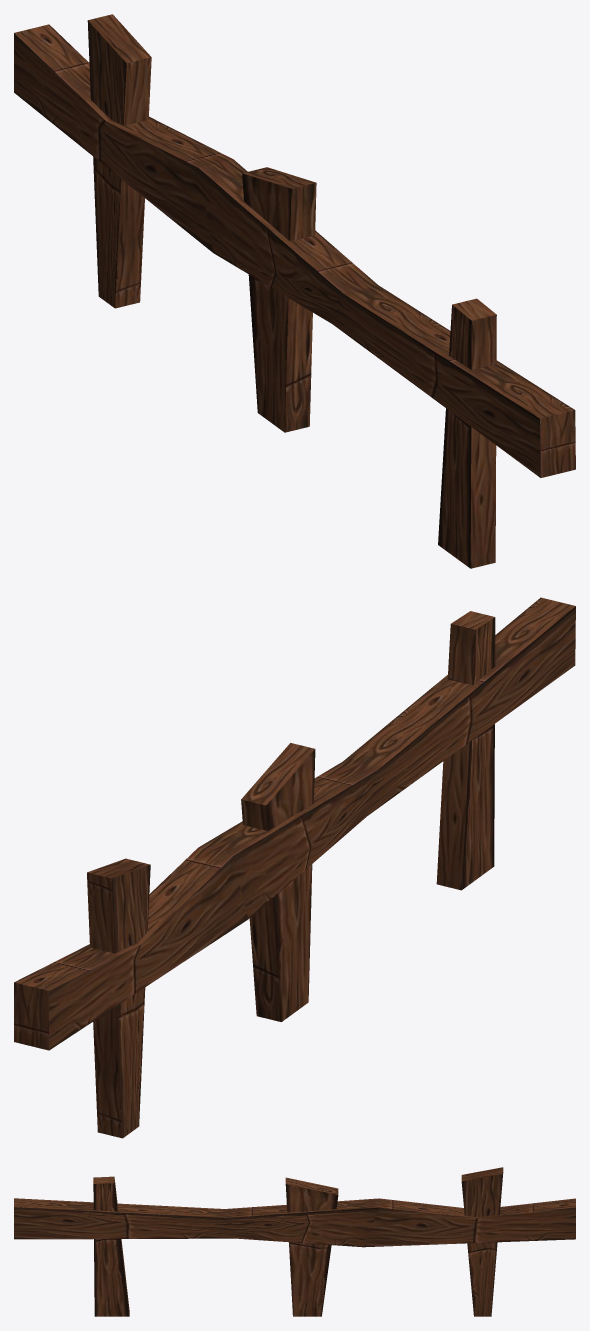
File: Fence.obj
3 views of the same model, one above another, from view 1: azimuth 30°, elevation 25°; view 2: azimuth 150°, elevation 25°; view 3: azimuth 270°, elevation 25° (orthographic). The views are drawn at different scales.
Parts seen in each view (by area): view 1: Cube.001_Cube.002, Cube_Cube.001, Cube.002_Cube.003, Cube.003_Cube.004; view 2: Cube.001_Cube.002, Cube_Cube.001, Cube.002_Cube.003, Cube.003_Cube.004; view 3: Cube.001_Cube.002, Cube_Cube.001, Cube.002_Cube.003, Cube.003_Cube.004.
Part boxes in pixels (left/top/right/bottom): Cube.001_Cube.002: left=14, top=24, right=575, bottom=477; Cube_Cube.001: left=242, top=167, right=316, bottom=432; Cube.002_Cube.003: left=87, top=14, right=151, bottom=308; Cube.003_Cube.004: left=438, top=298, right=496, bottom=568; Cube.001_Cube.002: left=14, top=597, right=575, bottom=1050; Cube_Cube.001: left=241, top=743, right=315, bottom=1021; Cube.002_Cube.003: left=87, top=858, right=150, bottom=1138; Cube.003_Cube.004: left=436, top=611, right=495, bottom=890; Cube.001_Cube.002: left=14, top=1198, right=575, bottom=1247; Cube_Cube.001: left=285, top=1177, right=338, bottom=1316; Cube.002_Cube.003: left=461, top=1167, right=503, bottom=1316; Cube.003_Cube.004: left=93, top=1176, right=129, bottom=1316.
Bounding box in the file's own units: 0.3147 × 2.25 × 8.
